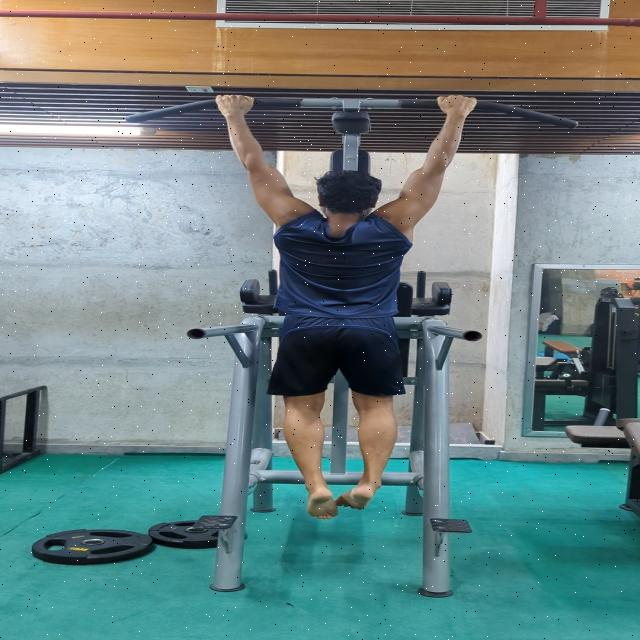Normal_PullUps: (200, 86, 486, 524)
